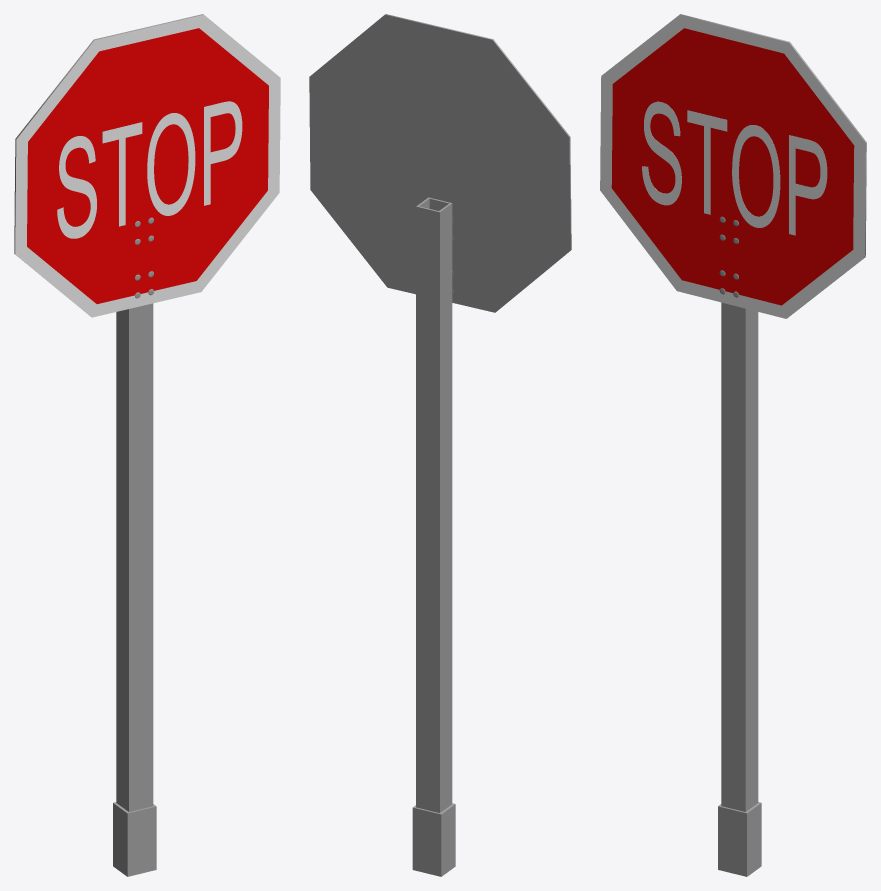
File: stop_sign.fbx
3 views of the same model, side by side, from view 1: azimuth 30°, elevation 25°; view 2: azimuth 150°, elevation 25°; view 3: azimuth 330°, elevation 25° (orthographic).
Visible parts, largest first — view 1: Box052; view 2: Box052; view 3: Box052.
Part boxes in pixels (x1,y1,x2,y2): Box052: (14, 14, 280, 876); Box052: (309, 14, 571, 876); Box052: (600, 14, 866, 876).
Size of the model in its own units: 87.88 by 268 by 10.04.
